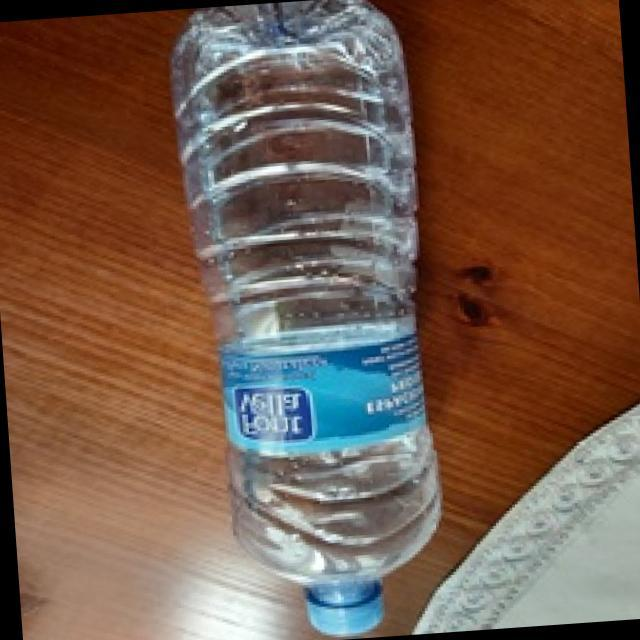good: (171, 0, 451, 640)
